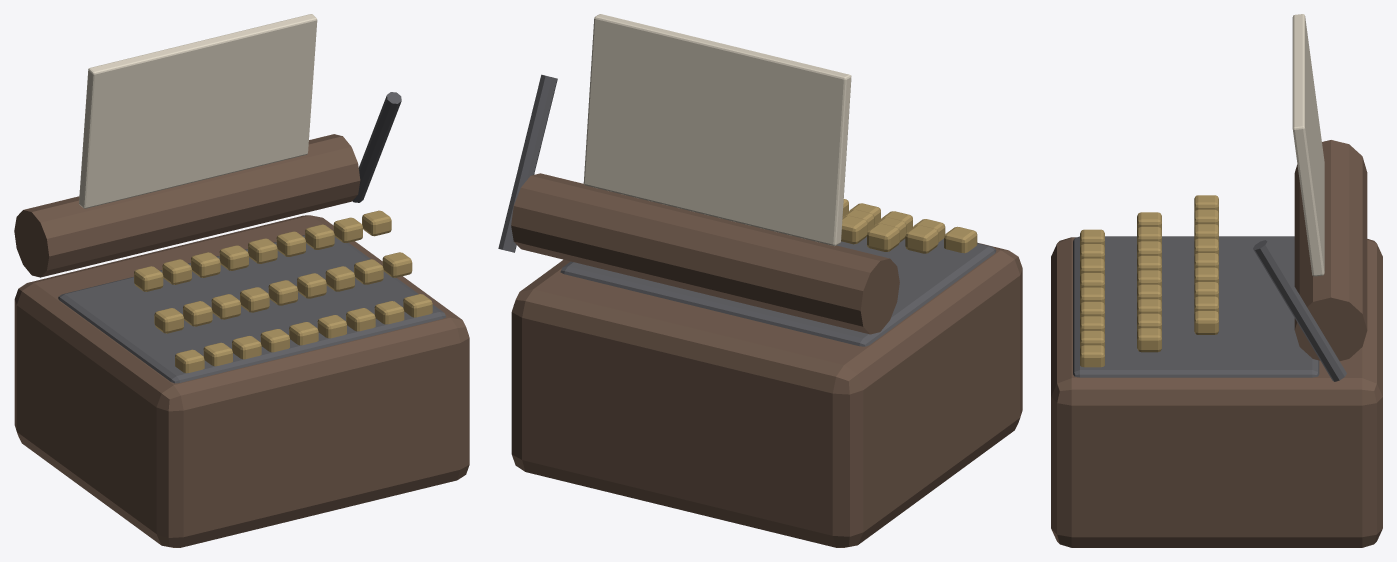
3 views of the same model, side by side, from view 1: azimuth 30°, elevation 25°; view 2: azimuth 150°, elevation 25°; view 3: azimuth 270°, elevation 25° (orthographic). The views are drawn at different scales.
Parts seen in each view (by area): view 1: typewriter; view 2: typewriter; view 3: typewriter.
Part boxes in pixels (left/top/right/bottom): typewriter: left=14, top=14, right=469, bottom=547; typewriter: left=498, top=14, right=1022, bottom=547; typewriter: left=1051, top=14, right=1382, bottom=547.
Bounding box in the file's own units: 0.388 × 0.433 × 0.32.
